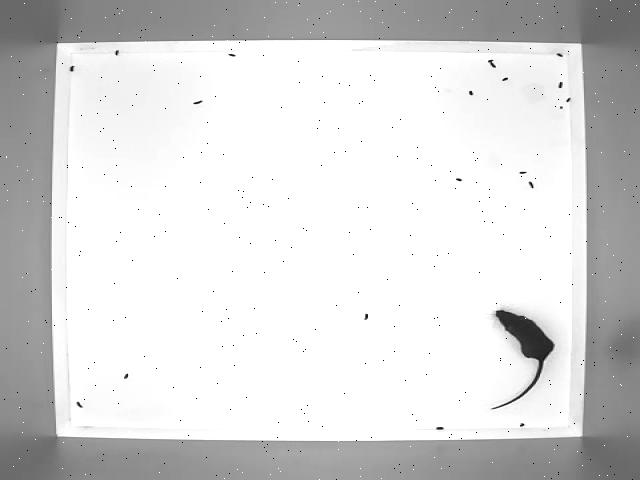Tikus: (484, 304, 560, 416)
